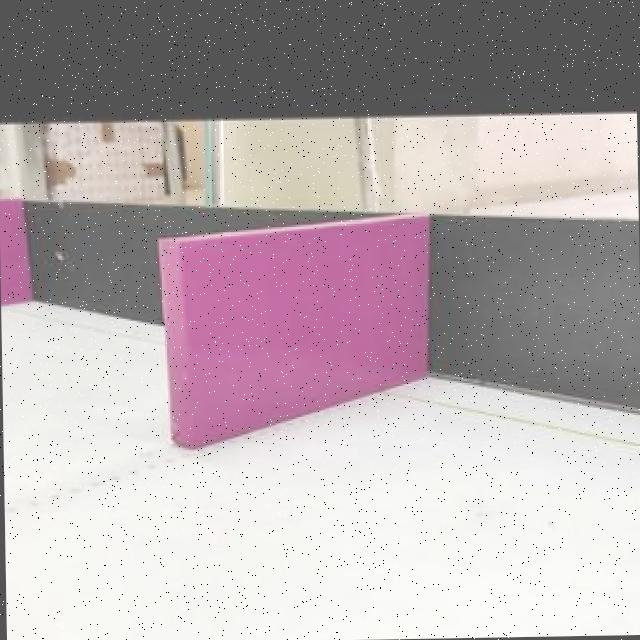xparking: (166, 232, 424, 422)
